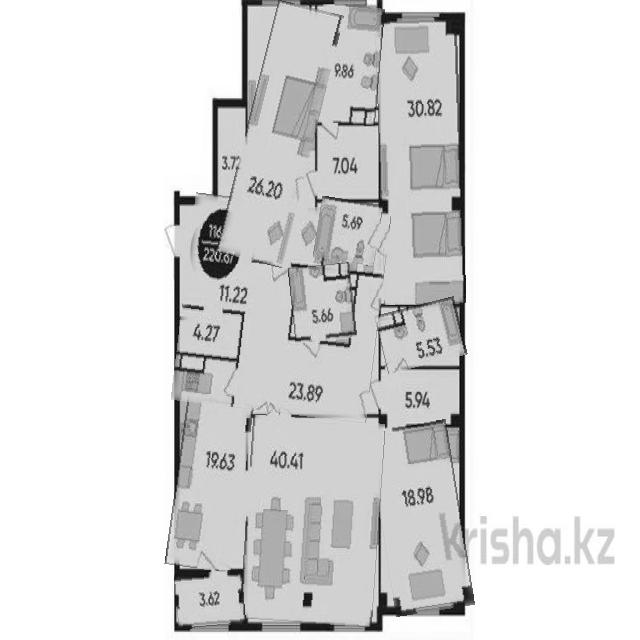balcony: (175, 571, 245, 628)
bathroom: (315, 5, 383, 125), (377, 301, 465, 369), (290, 264, 356, 343), (315, 198, 381, 264)
hallway: (182, 192, 383, 423)
kitchen: (171, 366, 252, 571)
living_room: (243, 417, 382, 625), (231, 2, 329, 266), (378, 17, 464, 304), (374, 422, 468, 615)
